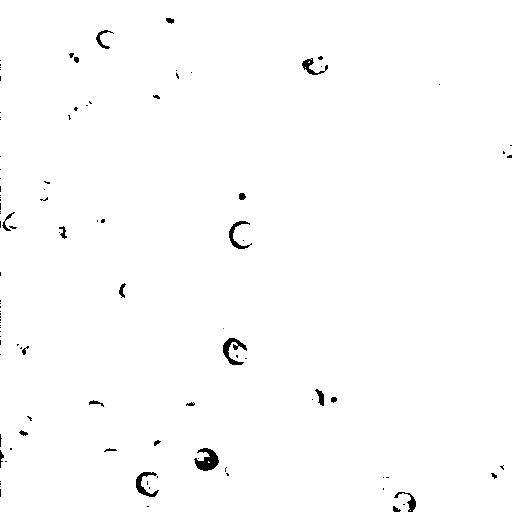micro-algae: (42, 380, 148, 488), (174, 379, 248, 452), (319, 428, 392, 499), (60, 90, 128, 157), (46, 137, 108, 198), (448, 24, 508, 82), (40, 322, 93, 374), (0, 66, 51, 120), (22, 1, 100, 34), (13, 92, 64, 142), (140, 365, 190, 410), (29, 411, 74, 458), (219, 350, 264, 396), (128, 396, 169, 438), (203, 24, 245, 64), (473, 128, 510, 164), (469, 64, 500, 103), (24, 174, 58, 209), (156, 0, 190, 33), (176, 395, 211, 426), (298, 47, 332, 77), (65, 96, 97, 126), (219, 337, 250, 367), (0, 448, 20, 493), (135, 470, 166, 499), (228, 219, 256, 251), (76, 399, 108, 427), (173, 55, 202, 84), (82, 210, 116, 232), (187, 0, 227, 18), (193, 447, 220, 473), (62, 46, 87, 74), (117, 276, 142, 304), (10, 413, 37, 438), (371, 475, 400, 498), (390, 489, 418, 512), (95, 446, 124, 468), (0, 210, 26, 234), (12, 339, 36, 365), (0, 433, 19, 461), (485, 460, 508, 482), (95, 29, 118, 50), (266, 91, 287, 114), (52, 225, 77, 244), (222, 459, 244, 480), (131, 494, 155, 512), (305, 388, 326, 408), (434, 70, 452, 88), (151, 439, 169, 455), (439, 0, 464, 11), (326, 391, 342, 408), (350, 0, 375, 9), (504, 420, 512, 448), (236, 190, 249, 204), (503, 143, 511, 161)
